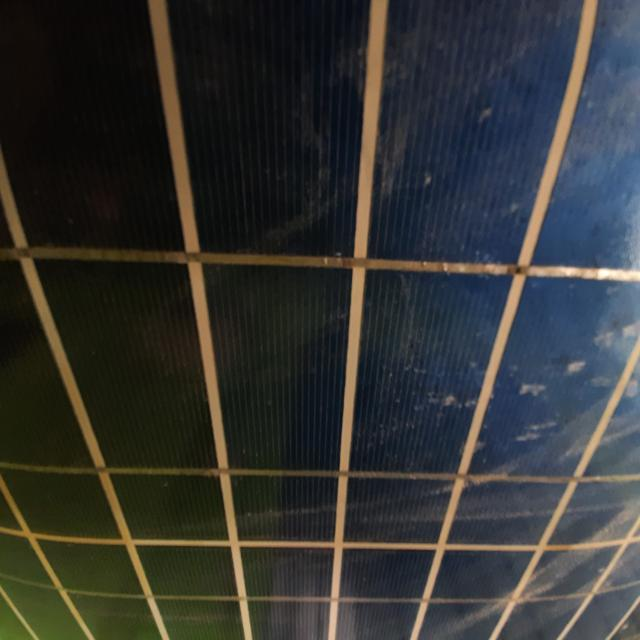dust-solar-panel: (0, 0, 640, 638)
